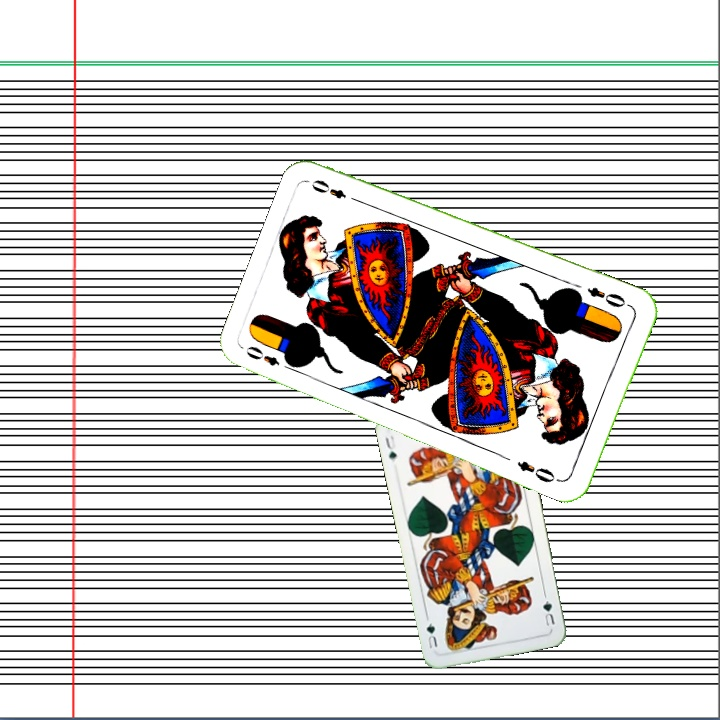EO: (582, 282, 633, 311), (241, 342, 282, 369)
GU: (539, 596, 557, 630), (381, 431, 399, 465)
